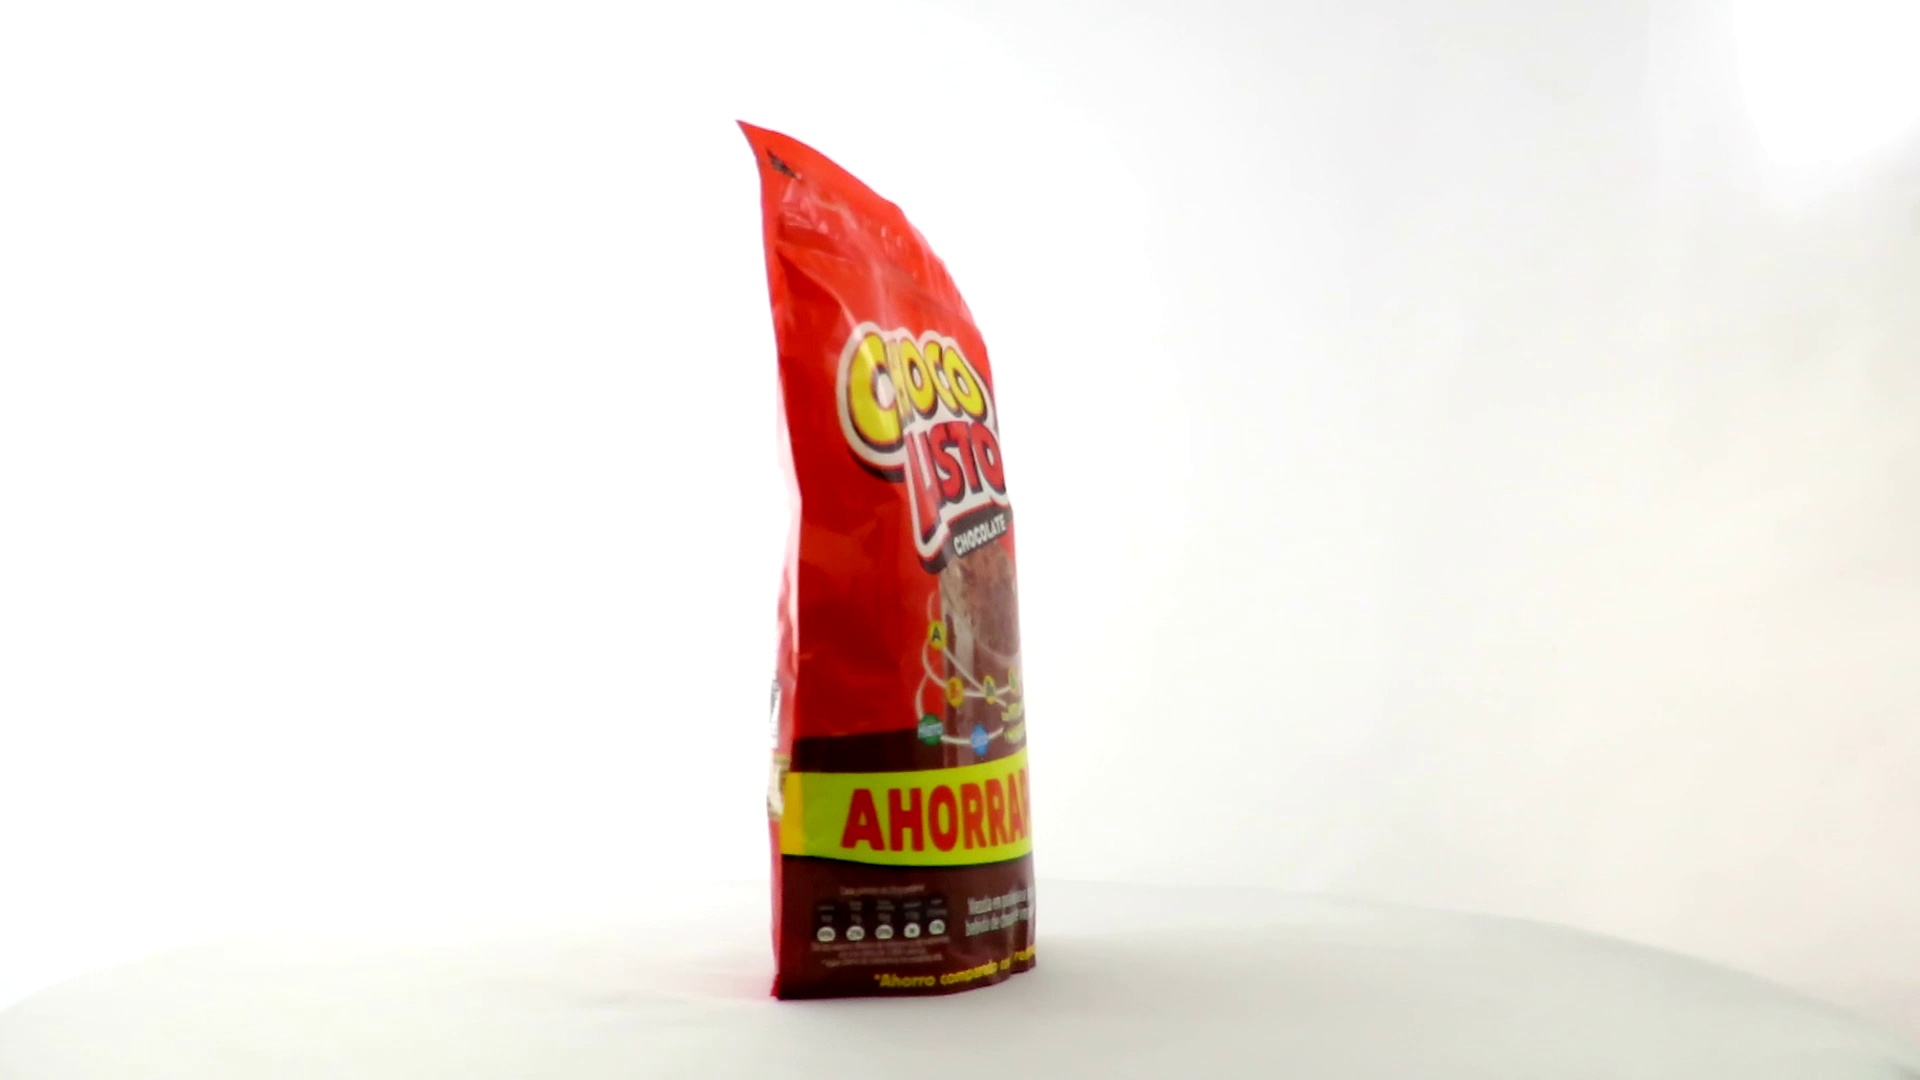COL0170103DYP36000: (731, 115, 1042, 1007)
